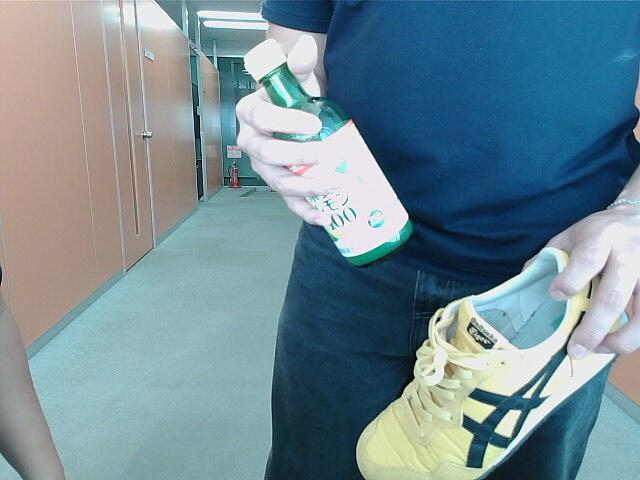Lemon_sapporo: (233, 35, 416, 266)
Shoes: (352, 246, 636, 479)
